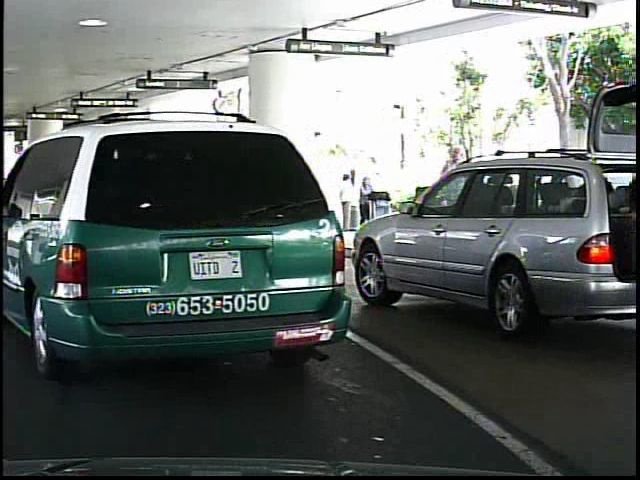person: (431, 140, 476, 263), (352, 171, 382, 241)
